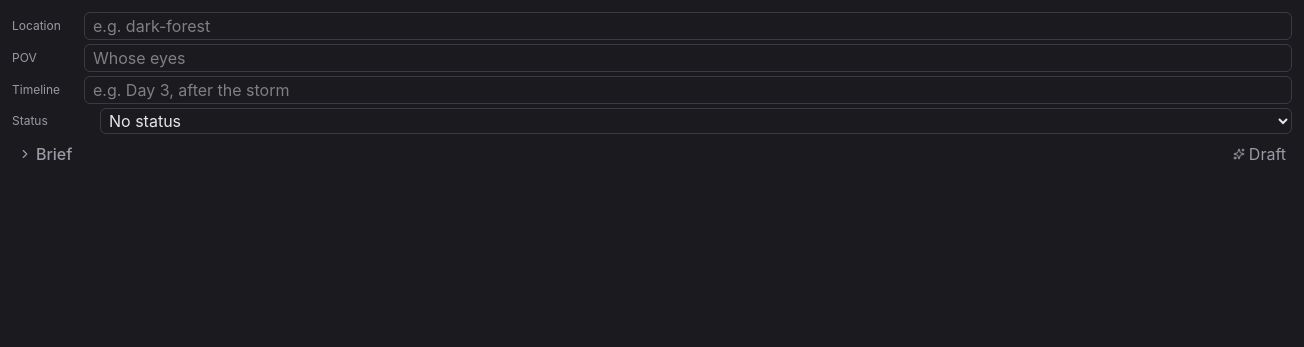
it: MetadataPane brief (F-14.3) › keeps the brief collapsed until its toggle is clicked, then shows the stored lines
The width and height of the screenshot is (1304, 347).
Check: the dropdown labelled "Location" is enabled, box x1=84 y1=12 x2=1292 y2=40
Check: the field labelled "Goal" is not shown
Click the button "Brief" at x=45, y=154, box x1=12 y1=138 x2=78 y2=170
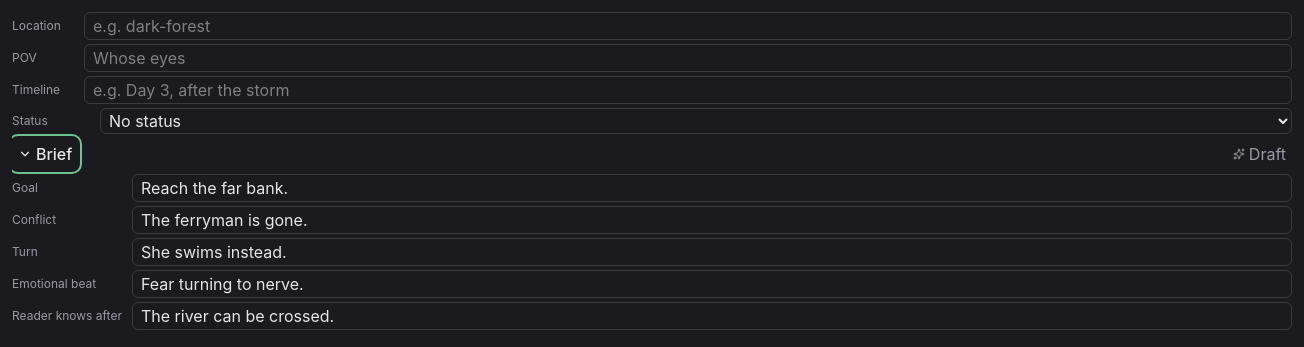
Check: the button "Brief" is expanded, box x1=12 y1=138 x2=78 y2=170
